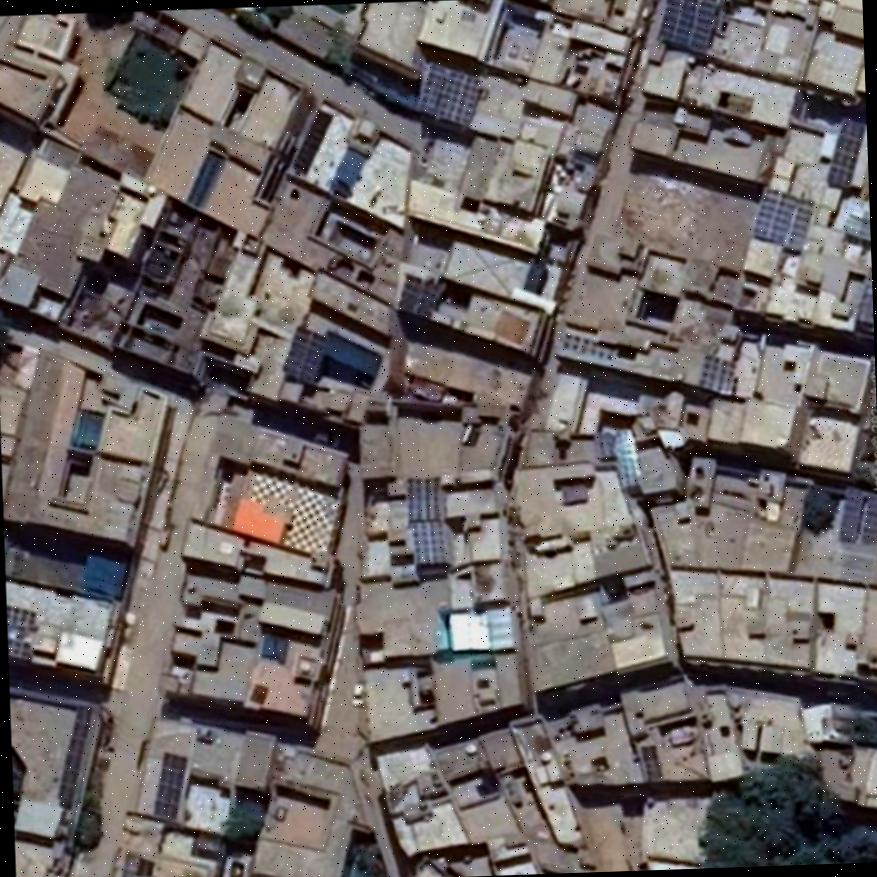Solarpanel: (419, 61, 480, 125), (753, 188, 812, 250), (56, 706, 90, 806), (659, 0, 715, 50), (827, 117, 865, 189), (284, 324, 325, 382), (154, 752, 188, 820), (840, 488, 877, 548), (396, 273, 436, 317), (450, 611, 493, 651), (407, 477, 442, 520), (6, 606, 34, 658), (611, 431, 636, 487), (413, 520, 446, 562), (697, 356, 733, 391)
